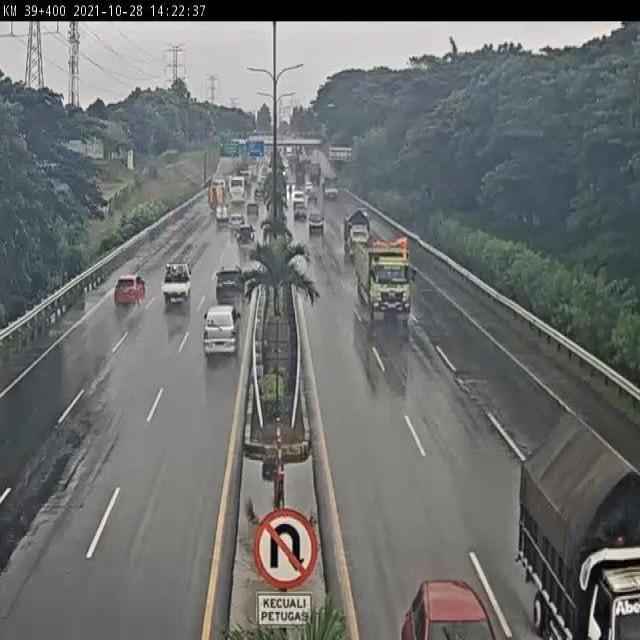car: (163, 258, 194, 302)
truck-l-: (354, 241, 413, 323)
truck-s-: (344, 207, 371, 265)
